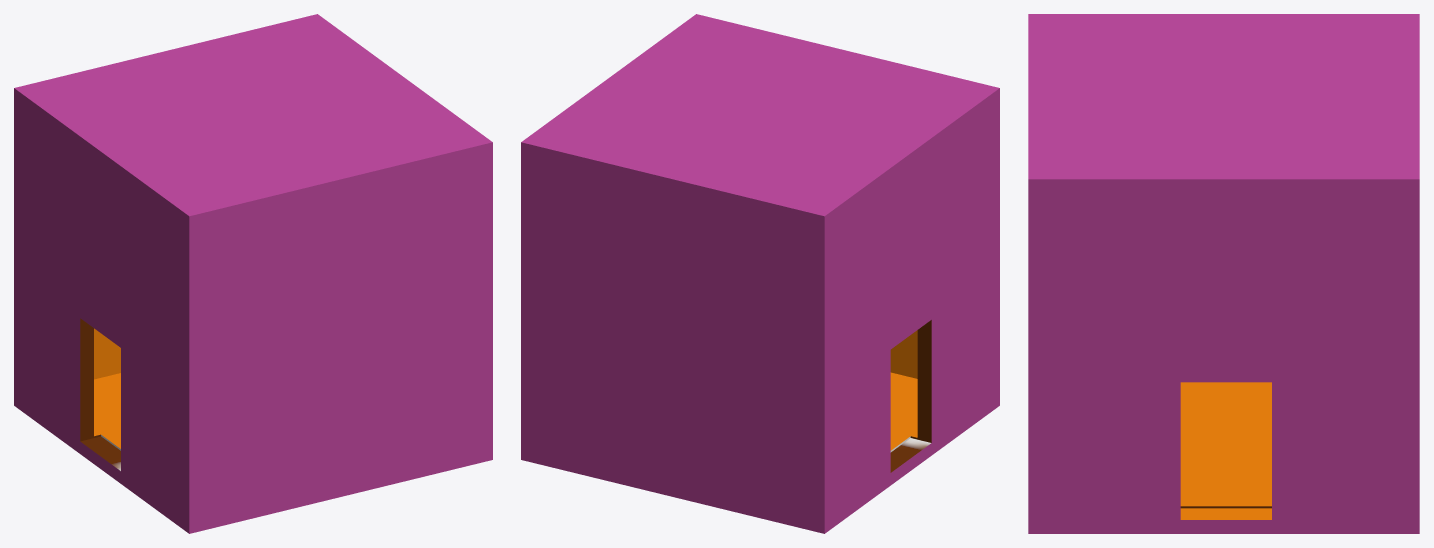
The model's file is Edificio.obj.
The picture shows the model from 3 angles, left to right: view 1: azimuth 30°, elevation 25°; view 2: azimuth 150°, elevation 25°; view 3: azimuth 270°, elevation 25°; orthographic projection. The views are drawn at different scales.
Parts seen in each view (by area): view 1: pCube4; view 2: pCube4; view 3: pCube4.
Boxes of the visible parts, x1,y1,x2,y2 form: pCube4: (14,14,492,533); pCube4: (521,14,999,533); pCube4: (1028,14,1419,533).
Bounding box in the file's own units: 11 × 11 × 11.
